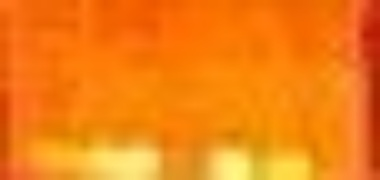Hotspot: (30, 138, 322, 180)
